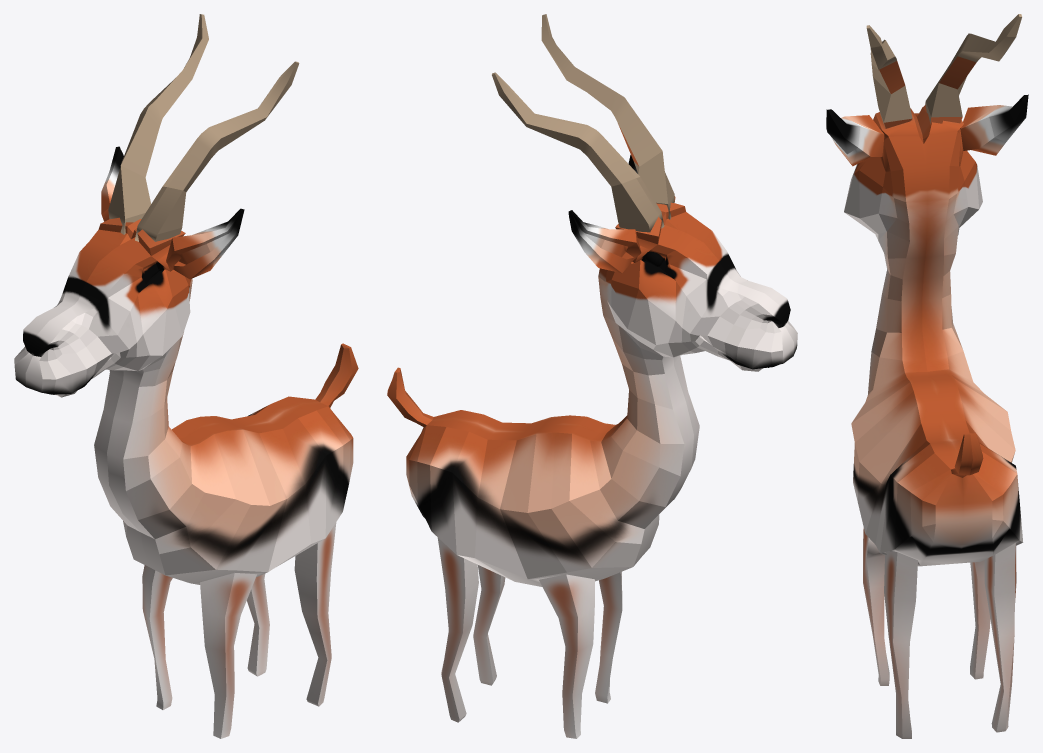
The model's file is goat1.obj.
3 renders of one model, left to right at view 1: azimuth 30°, elevation 25°; view 2: azimuth 150°, elevation 25°; view 3: azimuth 270°, elevation 25°, orthographic. The views are drawn at different scales.
Parts seen in each view (by area): view 1: goat; view 2: goat; view 3: goat.
Boxes of the visible parts, x1=… form: goat: x1=14, y1=14, x2=358, y2=738; goat: x1=387, y1=14, x2=797, y2=738; goat: x1=826, y1=14, x2=1028, y2=738.
Size of the model in its own units: 0.6567 by 1.14 by 0.3011.
3 materials, 1 textured.
